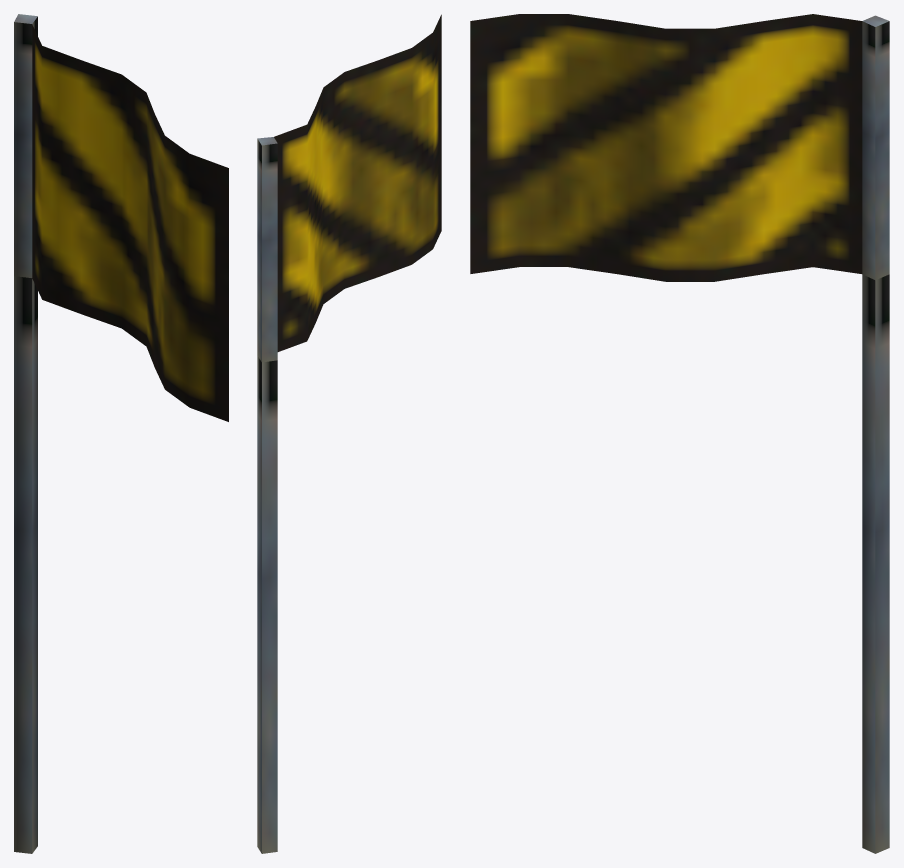
File: prop-028.glb
The picture shows the model from 3 angles, left to right: view 1: azimuth 30°, elevation 25°; view 2: azimuth 150°, elevation 25°; view 3: azimuth 270°, elevation 25°; orthographic projection. The views are drawn at different scales.
Parts seen in each view (by area): view 1: root; view 2: root; view 3: root.
Boxes of the visible parts, x1,y1,x2,y2 form: root: (14, 14, 228, 853); root: (257, 14, 441, 853); root: (470, 14, 889, 853).
Size of the model in its own units: 0.0566 by 1.49 by 0.6836.
Materials: 2 (2 with a texture image).
